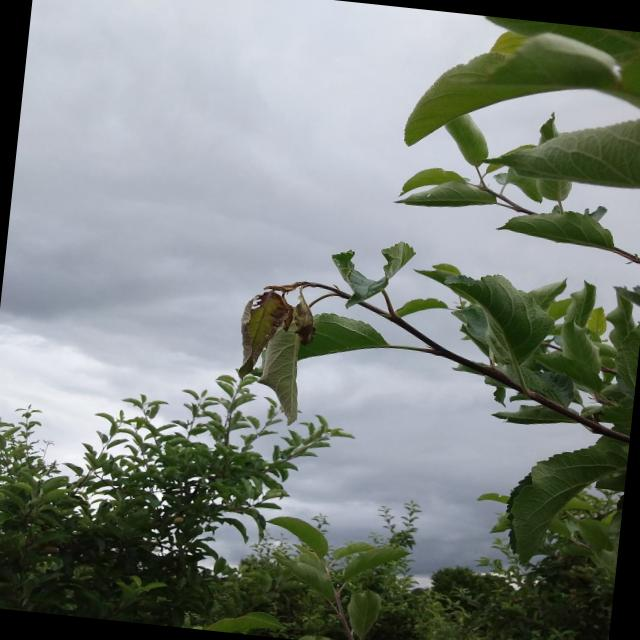-FireBlight-: (234, 281, 316, 384)
